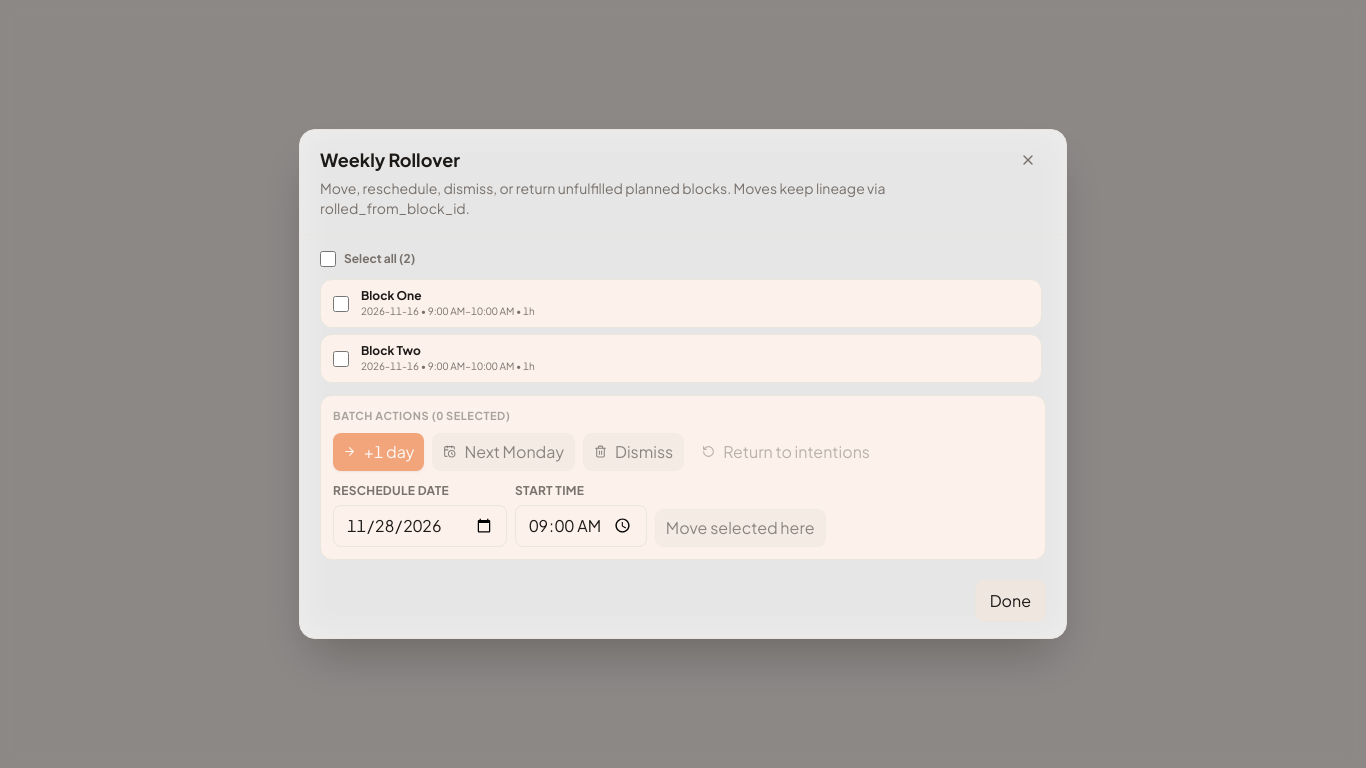
Scenario: WeeklyRolloverModal › select-all toggles every block and updates the chosen count
Click the checkbox labelled "Select all (2)" at [328, 259], box [320,251,336,267]
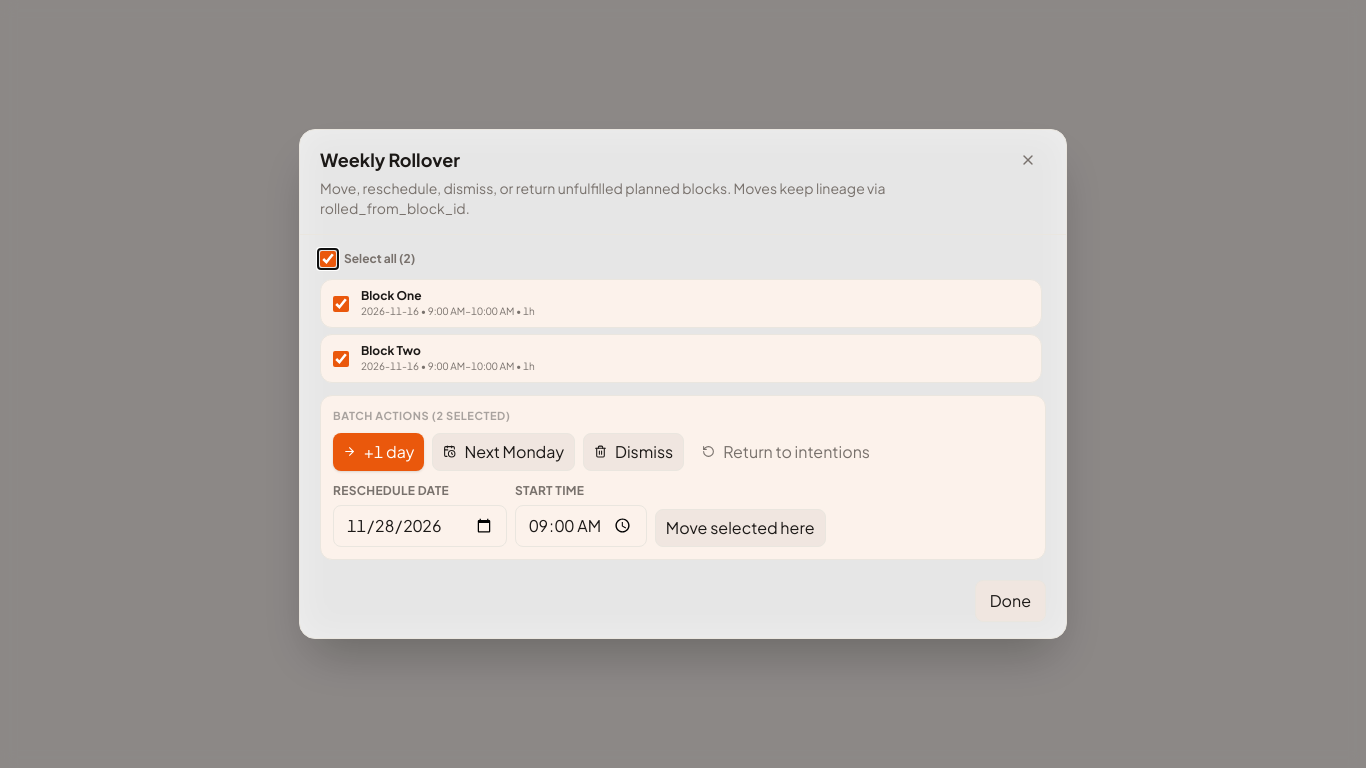
Check: the text "Batch actions (2 selected)" is shown, box [333,409,510,422]
Click the checkbox labelled "Select all (2)" at [328, 259], box [320,251,336,267]
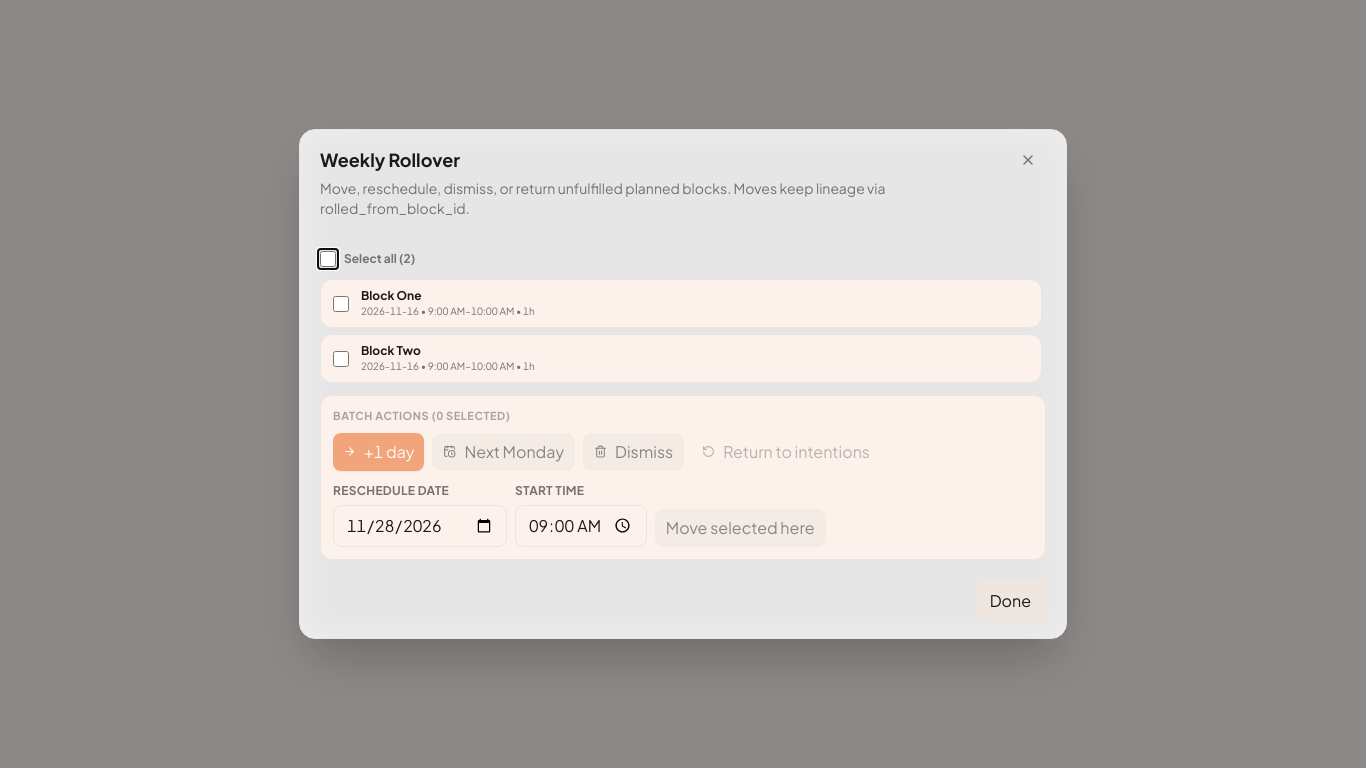
Check: the text "Batch actions (0 selected)" is shown, box [333,409,510,422]
